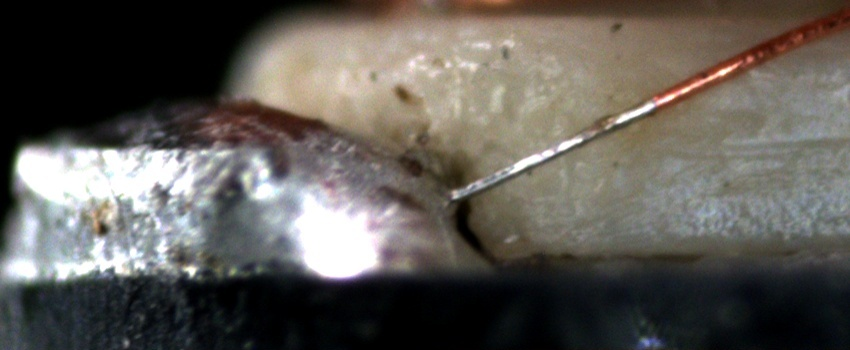DL: (623, 113, 850, 177)
TS: (445, 97, 658, 202)
